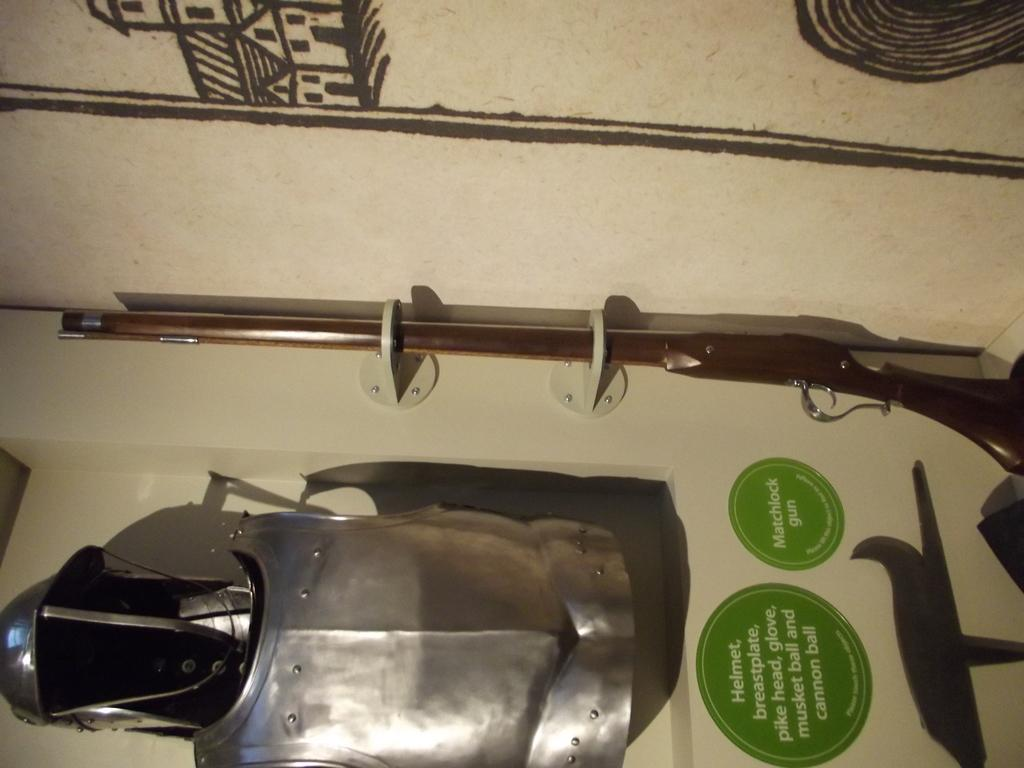Shotgun: (55, 309, 1023, 479)
